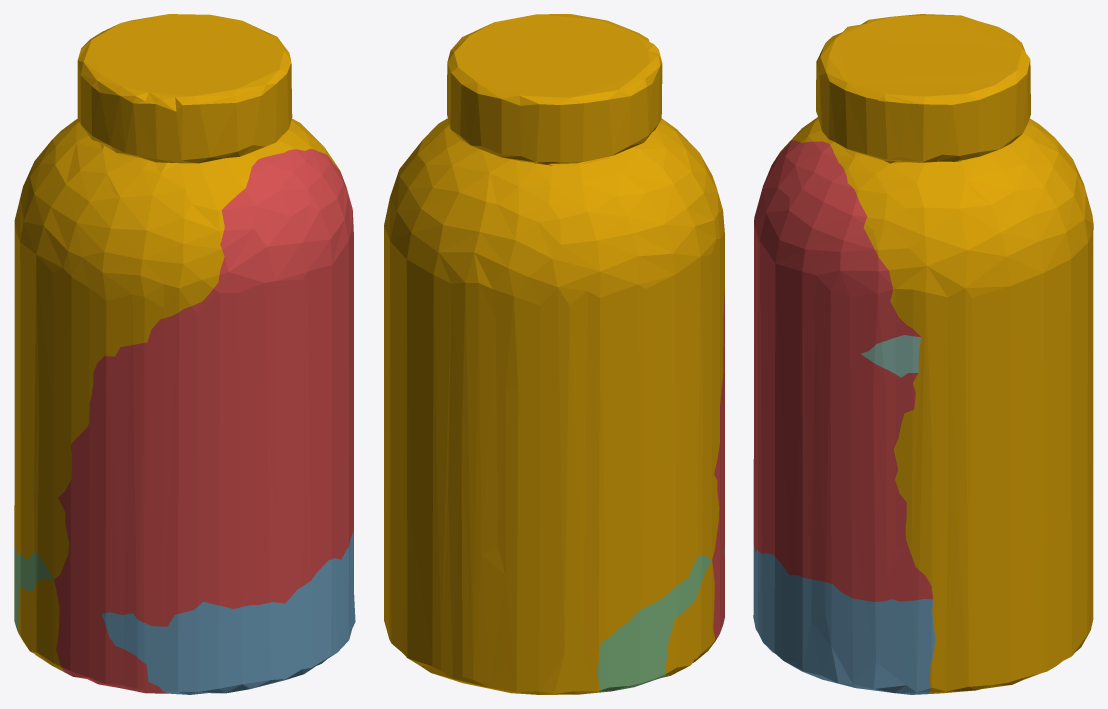
The model's file is fractured_12_6pcs.glb.
3 views of the same model, side by side, from view 1: azimuth 30°, elevation 25°; view 2: azimuth 150°, elevation 25°; view 3: azimuth 270°, elevation 25° (orthographic).
Visible parts, largest first — view 1: piece_1.obj, piece_0.obj, piece_2.obj, piece_3.obj; view 2: piece_0.obj, piece_3.obj, piece_1.obj; view 3: piece_0.obj, piece_1.obj, piece_2.obj, piece_4.obj.
Boxes of the visible parts, x1,y1,x2,y2 form: piece_1.obj: (54,149,353,693); piece_0.obj: (14,14,340,672); piece_2.obj: (101,529,355,694); piece_3.obj: (14,547,53,632); piece_0.obj: (384,14,724,694); piece_3.obj: (596,554,711,692); piece_1.obj: (712,290,724,643); piece_0.obj: (777,14,1093,693); piece_1.obj: (753,140,933,601); piece_2.obj: (753,543,935,694); piece_4.obj: (861,335,921,377).
Size of the model in its own units: 0.5393 by 1 by 0.5392.
